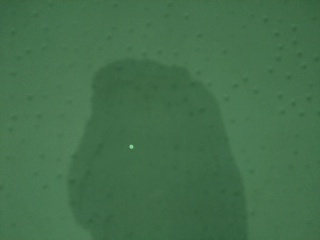Water_detected: (84, 83, 207, 240)
